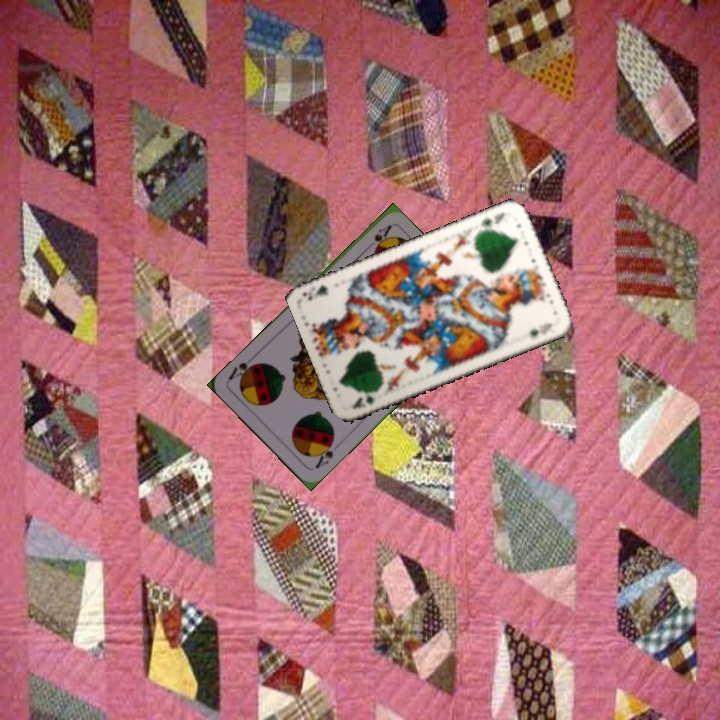GK: (346, 386, 382, 412), (476, 208, 513, 229)
SA: (311, 435, 337, 471), (369, 221, 394, 253)
